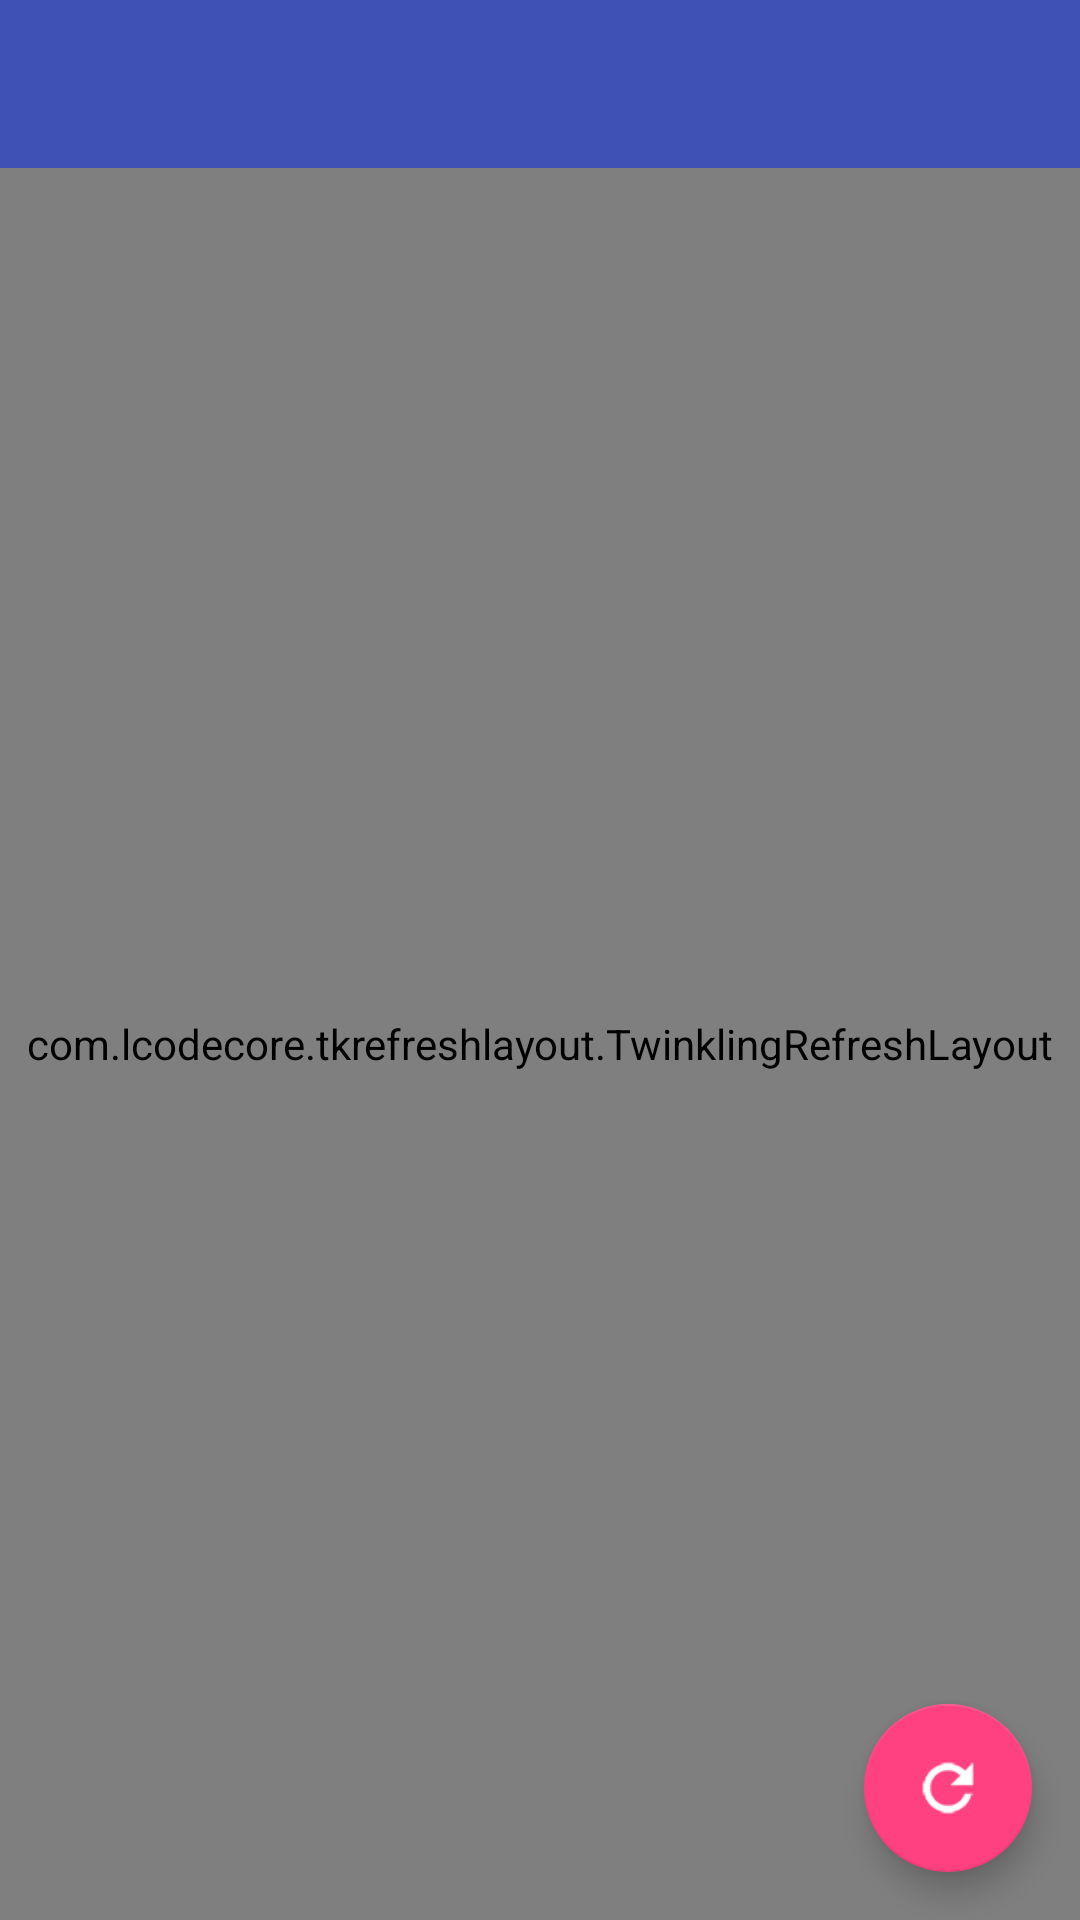

Icons on this 1080px x 1920px Android screen, each with its box as {"x1": x1, "y1": y1, "x2": x2, "y2": y2}:
refreshing: {"x1": 864, "y1": 1704, "x2": 1032, "y2": 1872}
